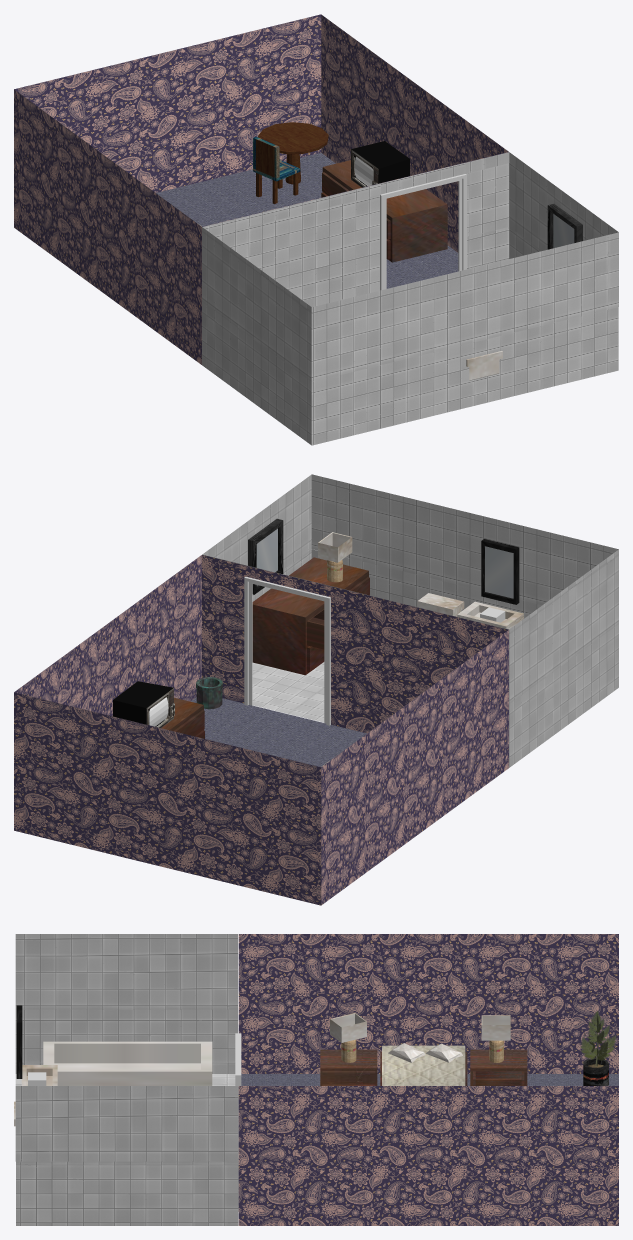
Rendered from Room 6 (1).glb.
The picture shows the model from 3 angles, top to bottom: view 1: azimuth 30°, elevation 25°; view 2: azimuth 150°, elevation 25°; view 3: azimuth 270°, elevation 25°; orthographic projection.
Visible parts, largest first — view 1: Bathroom, Room6, TvCabinet, DoorFrame, Coofee Table, Tv.001, Chair, Mirror1, Toilet; view 2: Room6, Bathroom, ToiletCabinet, DoorFrame, Mirro2, Tv.001, Mirror1, TvCabinet, sINK, ToiletShade, Trash, Toilet; view 3: Room6, Bathroom, bATH, Bed, Drawer, Drawer2.001, Plant.001, LampShade2.001, Drawer2, LampShade2, Plant, sINK (+3 smaller).
Boxes of the visible parts, <box> form: Bathroom: <box>202,152,618,445</box>; Room6: <box>14,14,508,364</box>; TvCabinet: <box>321,160,447,262</box>; DoorFrame: <box>380,174,466,290</box>; Coofee Table: <box>258,122,328,184</box>; Tv.001: <box>351,141,409,187</box>; Chair: <box>253,136,300,203</box>; Mirror1: <box>547,204,582,249</box>; Toilet: <box>466,351,502,380</box>; Room6: <box>14,555,508,905</box>; Bathroom: <box>202,474,618,767</box>; ToiletCabinet: <box>252,557,369,675</box>; DoorFrame: <box>244,576,330,725</box>; Mirro2: <box>481,539,519,604</box>; Tv.001: <box>113,681,174,727</box>; Mirror1: <box>248,518,283,594</box>; TvCabinet: <box>161,697,204,738</box>; sINK: <box>457,601,523,629</box>; ToiletShade: <box>318,532,352,562</box>; Trash: <box>196,677,222,709</box>; Toilet: <box>417,593,464,616</box>; Room6: <box>238,934,618,1225</box>; Bathroom: <box>15,934,238,1225</box>; bATH: <box>43,1041,212,1085</box>; Bed: <box>382,1045,465,1085</box>; Drawer: <box>320,1049,377,1085</box>; Drawer2.001: <box>470,1049,527,1085</box>; Plant.001: <box>580,1011,616,1066</box>; LampShade2.001: <box>330,1013,366,1042</box>; Drawer2: <box>473,1071,524,1085</box>; LampShade2: <box>481,1015,510,1040</box>; Plant: <box>583,1058,608,1085</box>; sINK: <box>21,1065,57,1085</box>.
Size of what is drawn, in the model's own units: 5.66 by 2.57 by 9.54.
17 materials, 16 textured.
